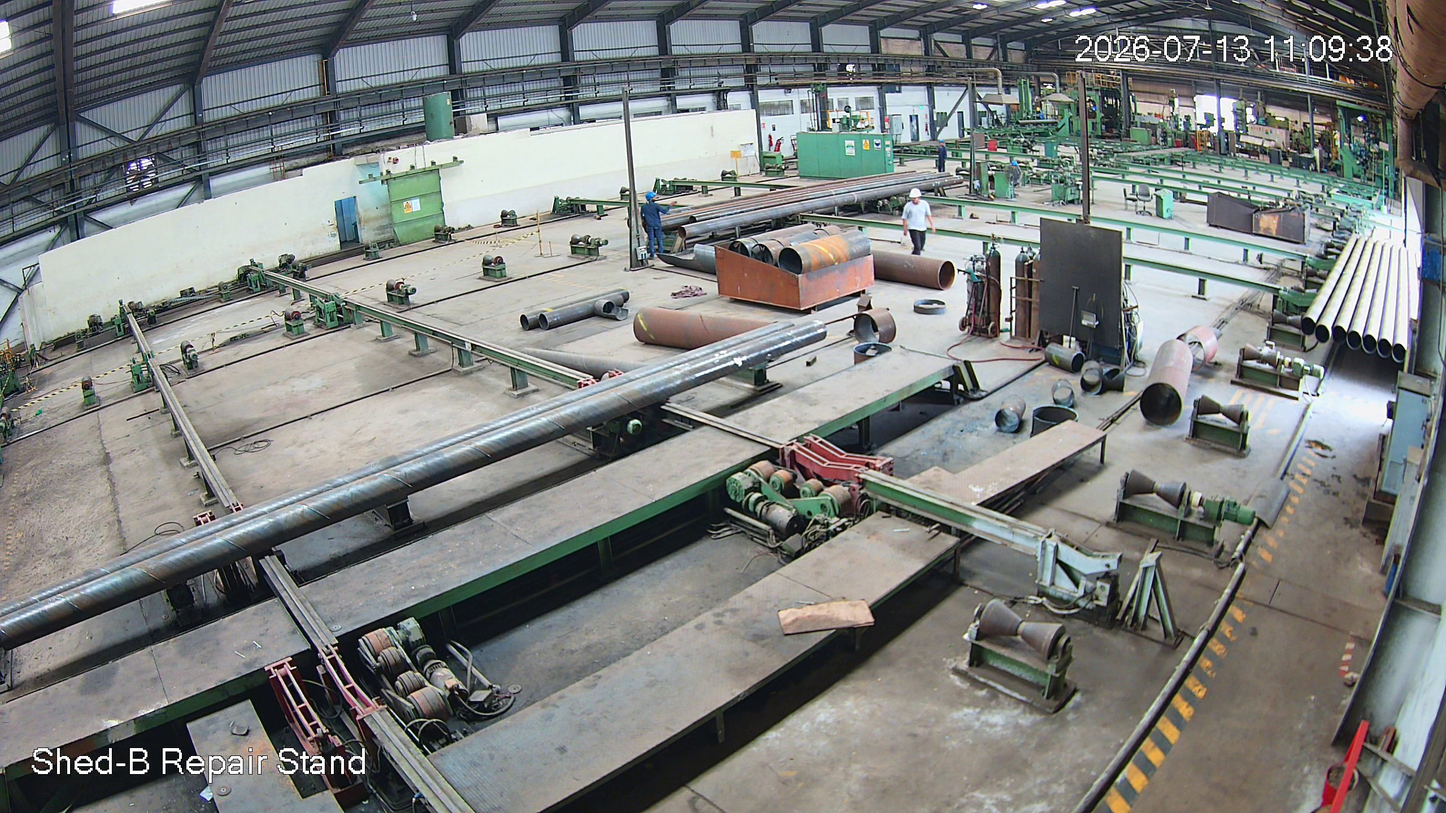Helmet: (908, 188, 926, 205), (644, 190, 658, 206)
Person: (902, 189, 932, 255), (642, 191, 666, 253)
